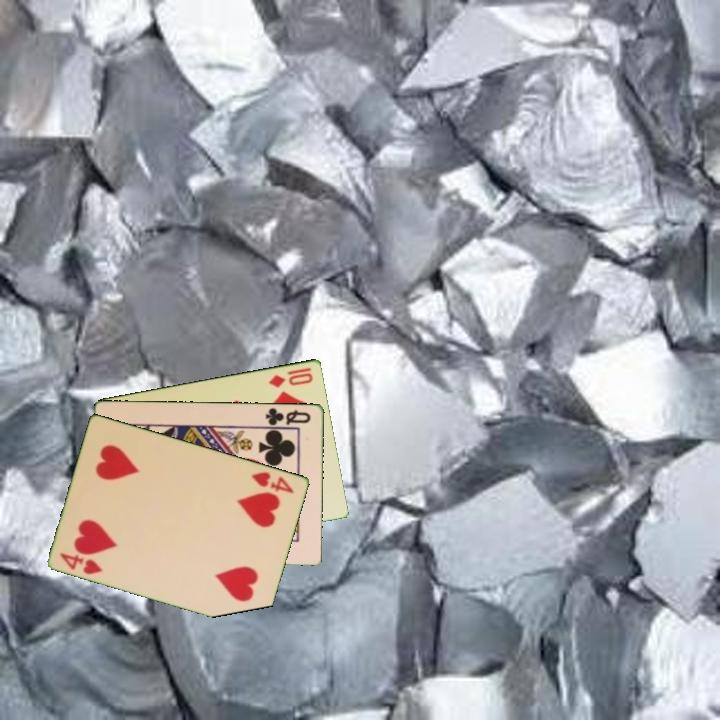10d: (265, 364, 316, 390)
4h: (248, 468, 297, 496), (57, 549, 106, 577)
Qc: (262, 404, 314, 428)
